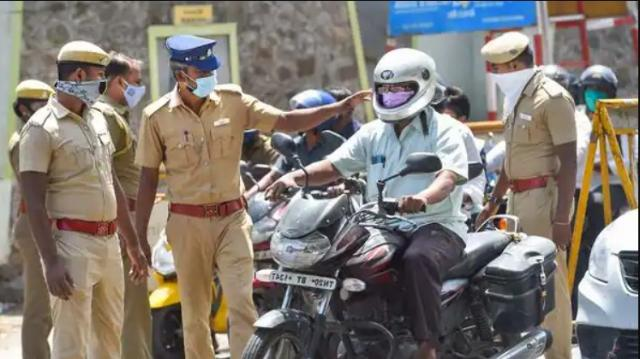licensePlate: (252, 270, 340, 290)
motorcycle: (233, 47, 555, 359)
withHelmet: (362, 51, 439, 123)
